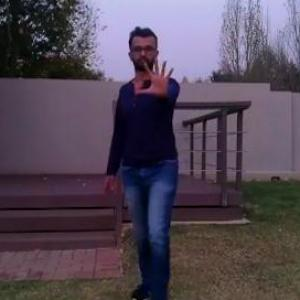follow_hand: (133, 53, 178, 98)
